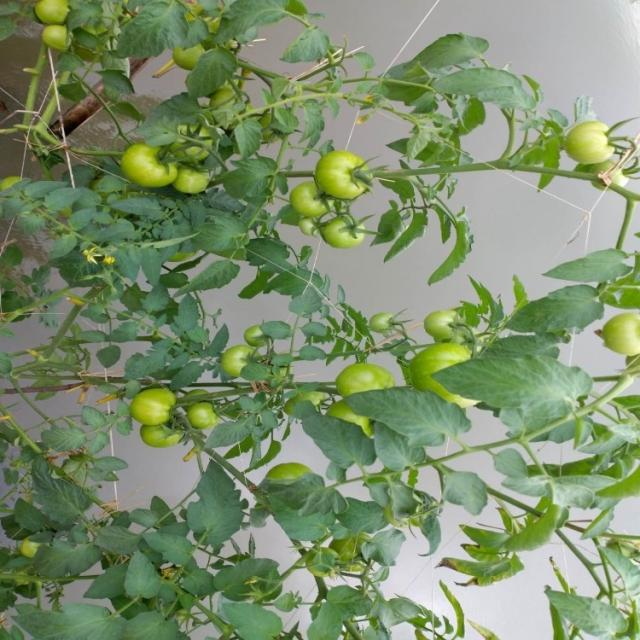tomato: (114, 138, 194, 205), (402, 338, 473, 413), (314, 142, 390, 207), (559, 109, 622, 174), (319, 200, 376, 260), (134, 374, 186, 437), (332, 362, 395, 405), (423, 299, 477, 347), (596, 308, 640, 364), (34, 1, 87, 35), (286, 181, 332, 219), (262, 451, 306, 486), (216, 339, 256, 373), (143, 420, 187, 450), (184, 401, 228, 427), (44, 32, 87, 53), (179, 167, 211, 195), (368, 311, 394, 345), (242, 319, 269, 351)
